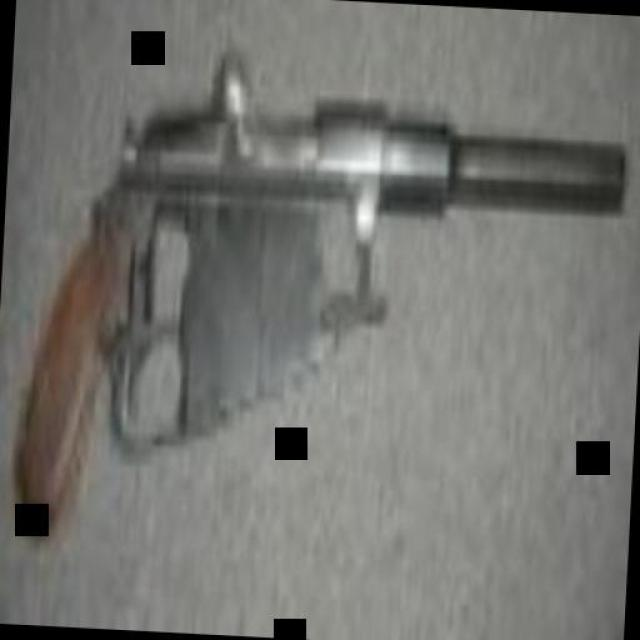gun: (0, 30, 628, 562)
